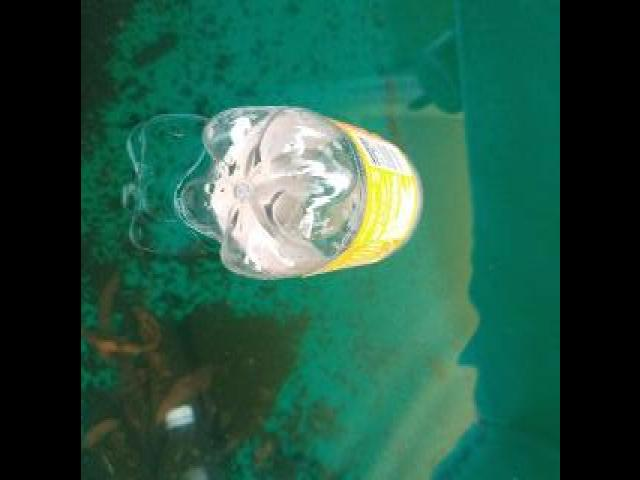Bottle: (166, 94, 430, 296)
